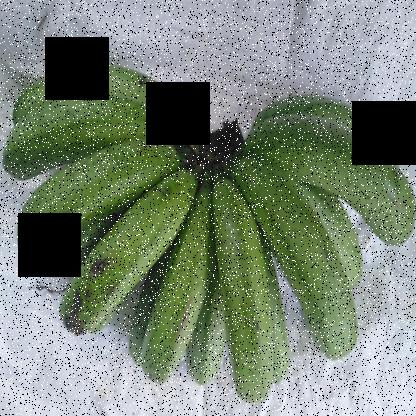unripe: (218, 159, 368, 380), (235, 118, 415, 260), (11, 133, 198, 260), (44, 176, 174, 350), (130, 183, 219, 395), (212, 166, 279, 416), (1, 106, 192, 181)
